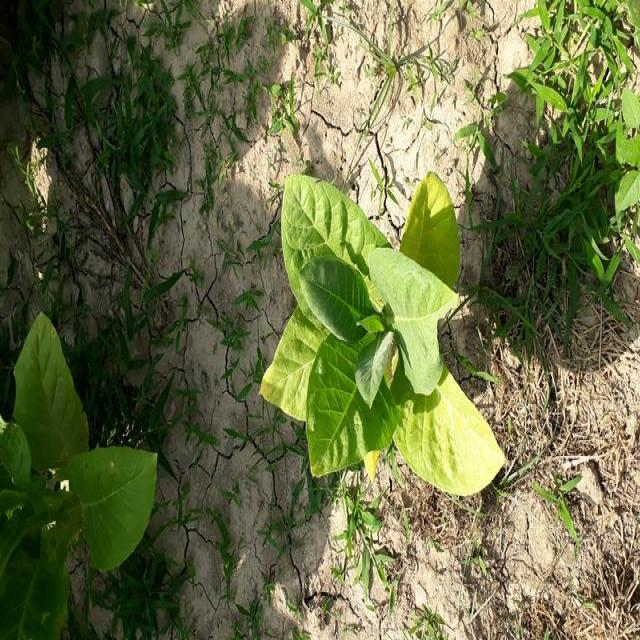crop: (264, 160, 514, 507), (0, 307, 150, 636)
